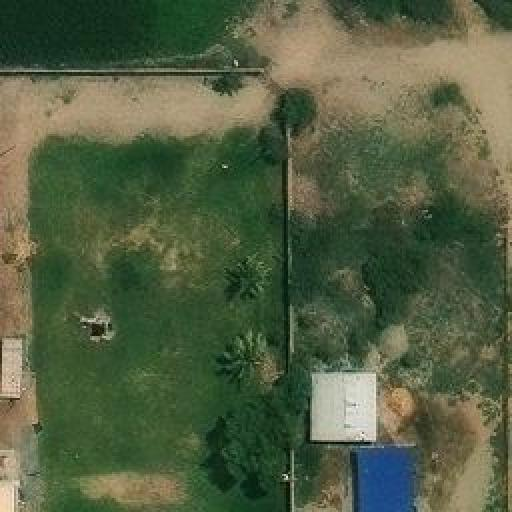manzanas: (291, 369, 417, 510)
